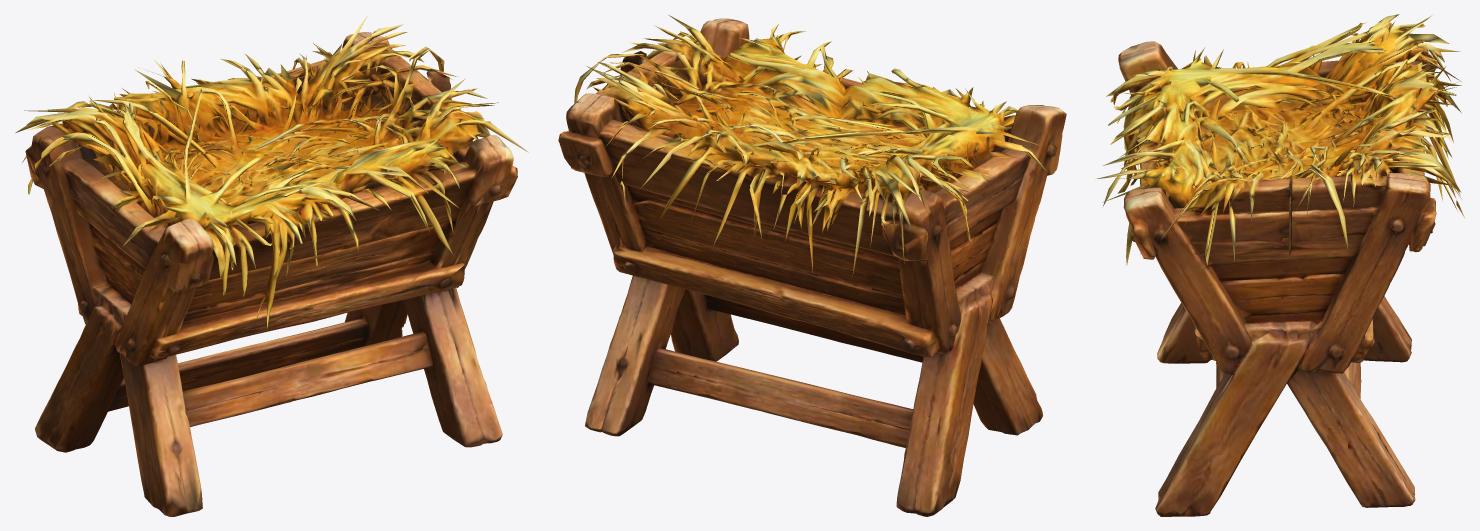
File: manger.glb
3 views of the same model, side by side, from view 1: azimuth 30°, elevation 25°; view 2: azimuth 150°, elevation 25°; view 3: azimuth 270°, elevation 25° (orthographic). The views are drawn at different scales.
Parts seen in each view (by area): view 1: tripo_node_c9a5fb0e-088f-4804-b571-9e8b9a4dbefd; view 2: tripo_node_c9a5fb0e-088f-4804-b571-9e8b9a4dbefd; view 3: tripo_node_c9a5fb0e-088f-4804-b571-9e8b9a4dbefd.
Part boxes in pixels (x1,y1,x2,y2): tripo_node_c9a5fb0e-088f-4804-b571-9e8b9a4dbefd: [15, 15, 528, 516]; tripo_node_c9a5fb0e-088f-4804-b571-9e8b9a4dbefd: [558, 15, 1066, 516]; tripo_node_c9a5fb0e-088f-4804-b571-9e8b9a4dbefd: [1097, 14, 1464, 516].
Size of the model in its own units: 0.974 by 0.8122 by 0.757.
Materials: 1 (1 with a texture image).
